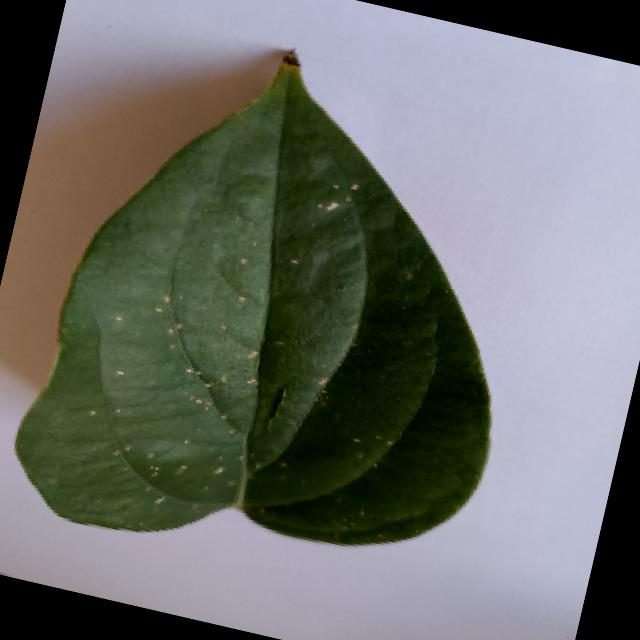pollu-disease: (0, 13, 567, 610)
